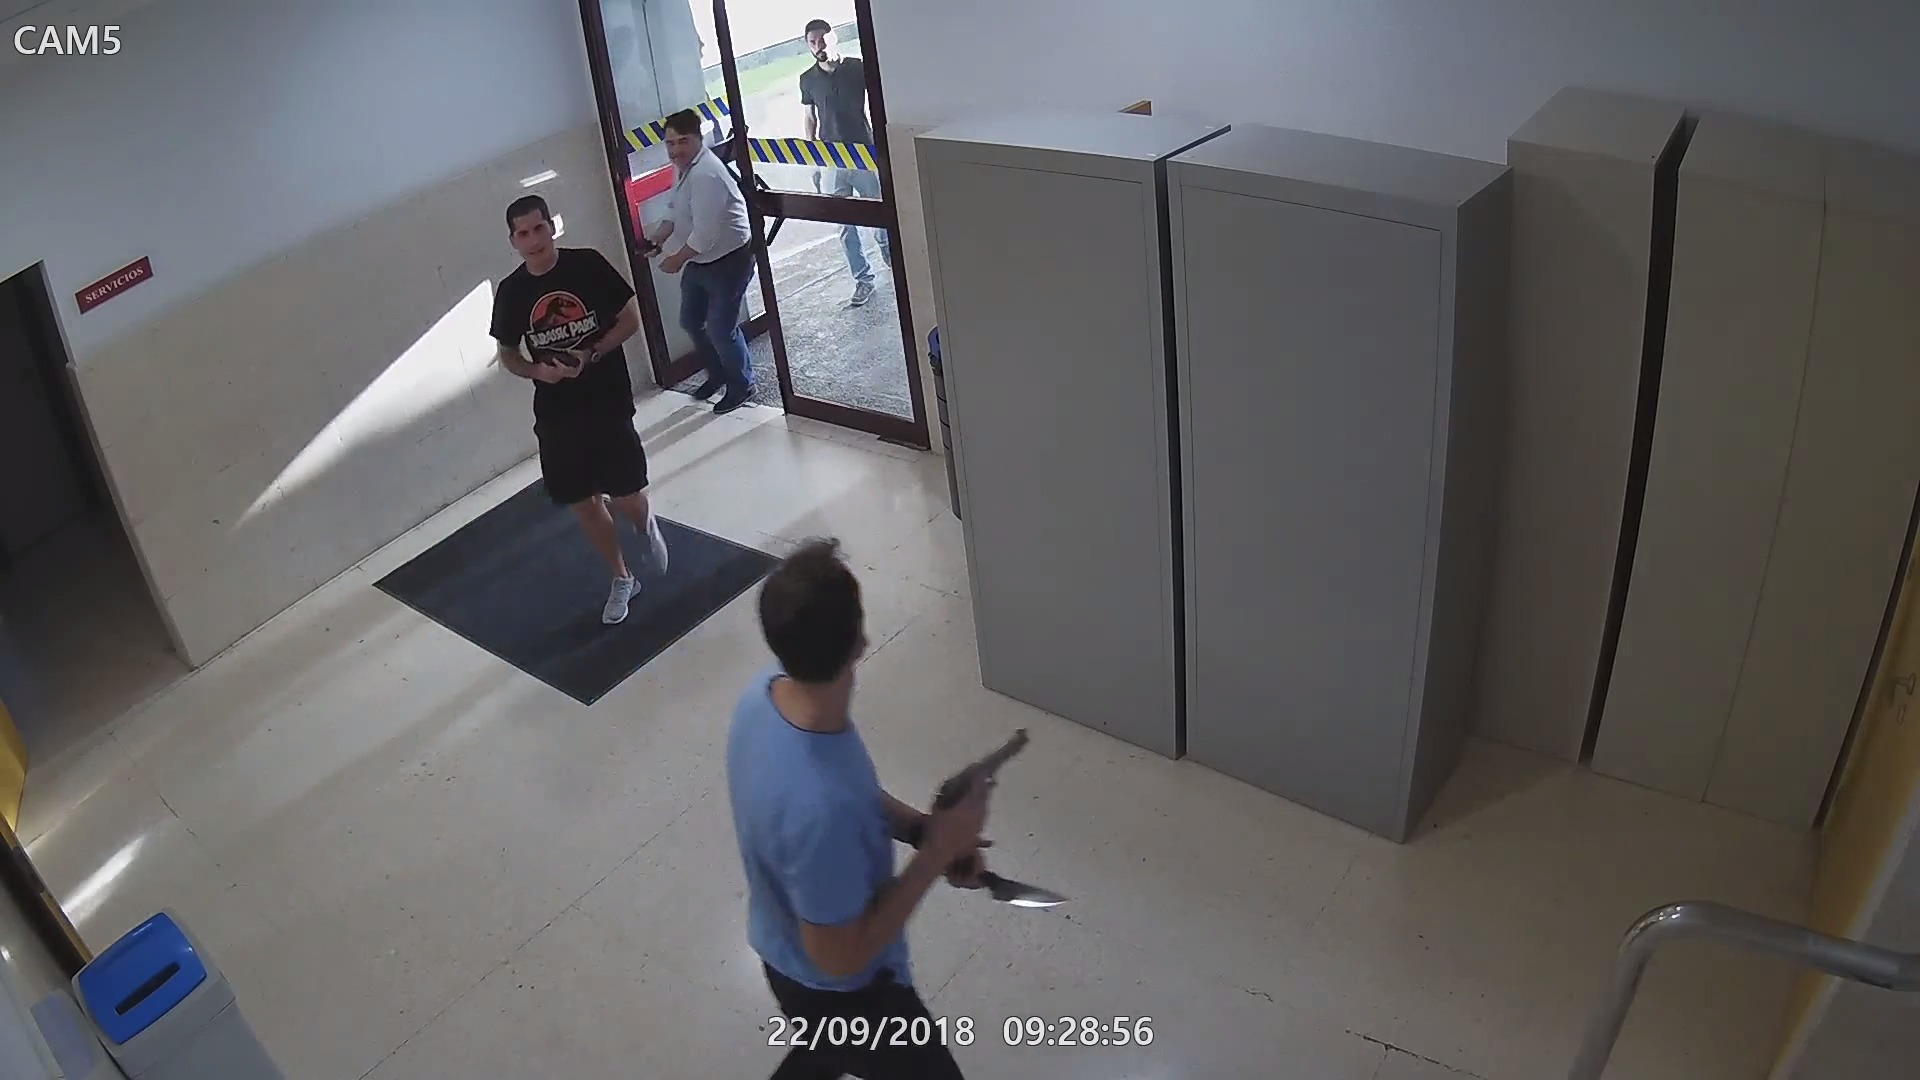Handgun: (920, 719, 1034, 876), (531, 348, 588, 386), (629, 235, 666, 262), (811, 164, 823, 193)
Knife: (940, 852, 1072, 916)
